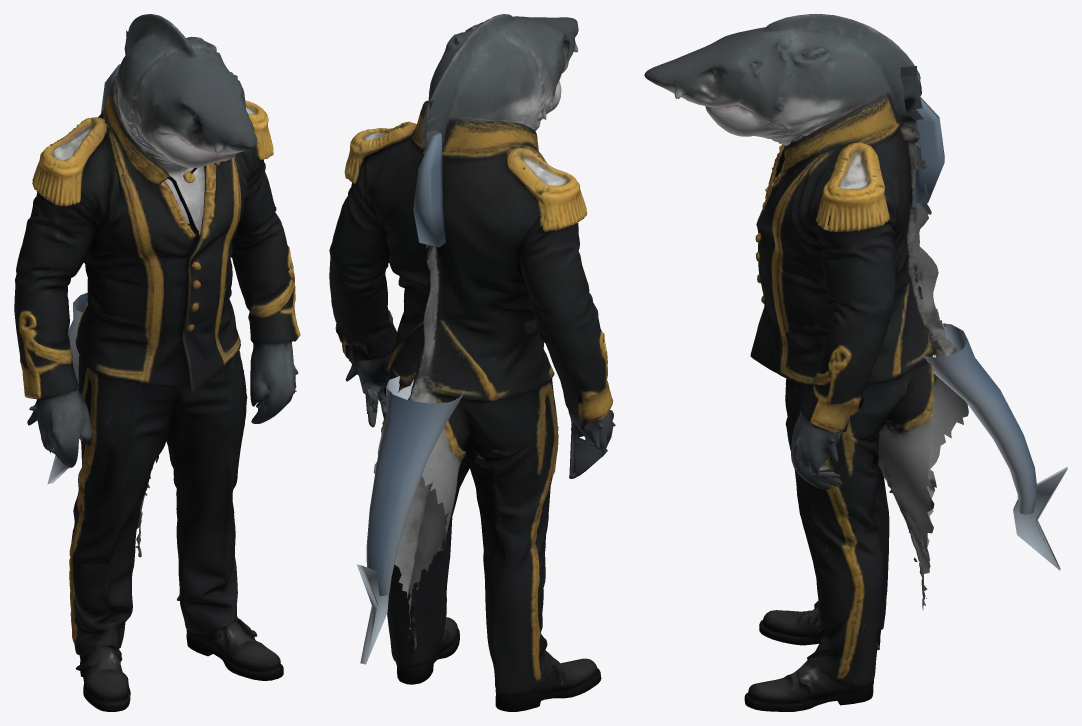
Rendered from guard-gen.glb.
The picture shows the model from 3 angles, left to right: view 1: azimuth 30°, elevation 25°; view 2: azimuth 150°, elevation 25°; view 3: azimuth 270°, elevation 25°; orthographic projection.
Visible parts, largest first — view 1: world, tail_model; view 2: world, tail_model, dorsal_fin_model; view 3: world, tail_model, dorsal_fin_model, skull_cap_v4.
Boxes of the visible parts, x1,y1,x2,y2 form: world: (14, 14, 300, 711); tail_model: (47, 292, 87, 484); world: (329, 14, 615, 711); tail_model: (357, 376, 464, 664); dorsal_fin_model: (413, 132, 445, 247); world: (644, 14, 968, 711); tail_model: (922, 323, 1067, 570); dorsal_fin_model: (915, 97, 944, 203); skull_cap_v4: (900, 66, 923, 120).
Size of the model in its own units: 0.4342 by 1 by 0.5848.
Materials: 3 (1 with a texture image).
